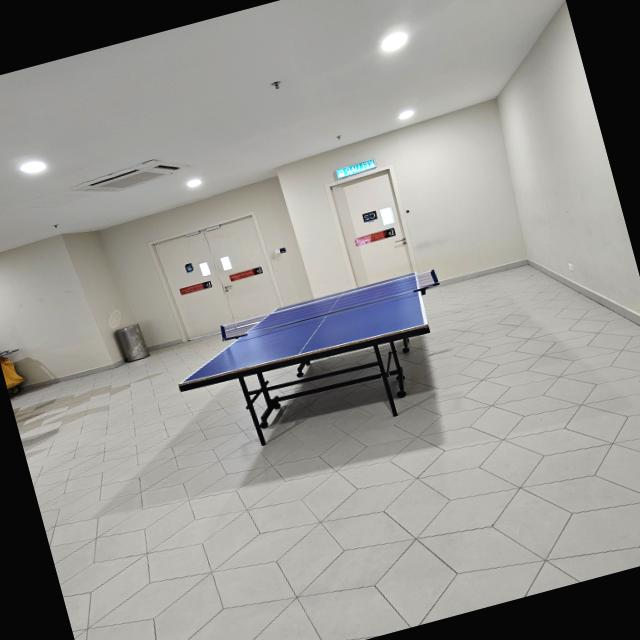door: (149, 211, 286, 344), (328, 165, 420, 288)
footpath: (41, 350, 640, 640)
obstacle: (164, 262, 472, 470), (112, 318, 154, 366)
